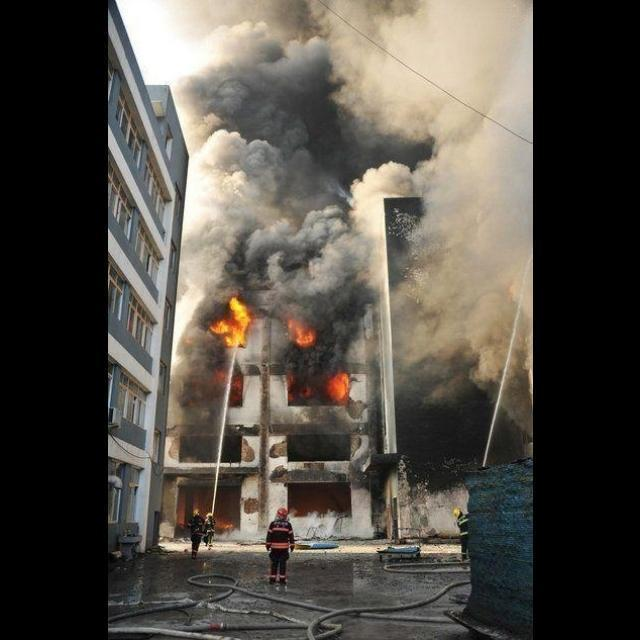Fire: (208, 296, 250, 348), (286, 318, 316, 348), (324, 372, 350, 403)
Smoke: (168, 1, 532, 294), (370, 296, 536, 467), (288, 506, 386, 538), (212, 526, 268, 542)
